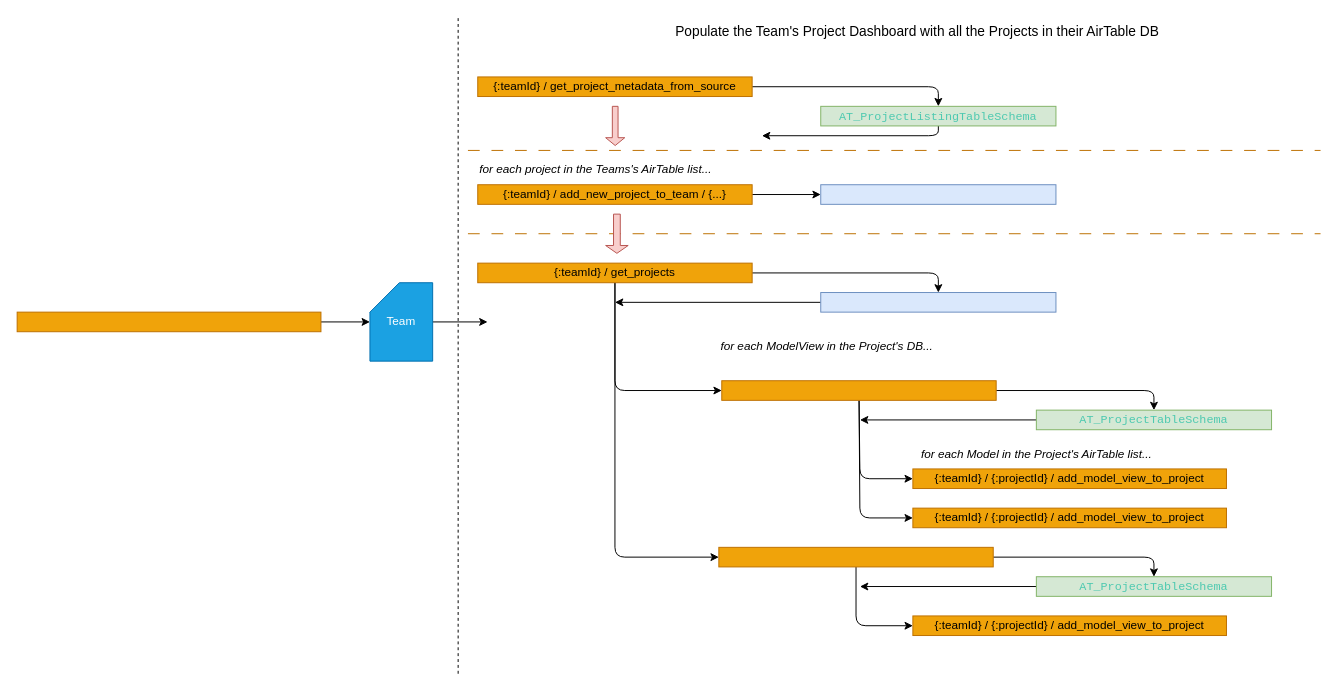
Image size: 1338x692. Some labels were removed from this diagram. The shapes that lost their labels are listed below. From the top down, each one's centre as x and y in pixels, then its label:
pixel 938 194: DB
pixel 168 321: https:// bldgtyp.github.io / ph_navigator / # / {:teamId}
pixel 938 302: DB | list[Projects]
pixel 858 390: get_model_metadata_from_source
pixel 855 556: get_model_data_from_source
